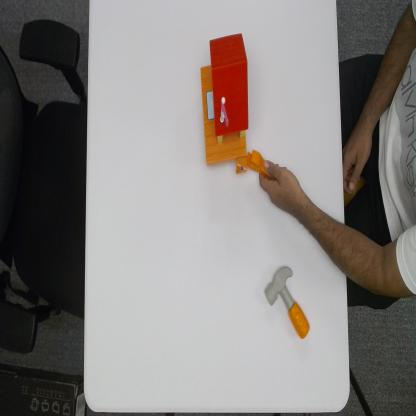Arm: (307, 192, 416, 294)
Hammer: (263, 264, 311, 341)
Hand: (258, 159, 308, 217)
House: (200, 31, 250, 176)
Screwdriver: (245, 148, 276, 178)
